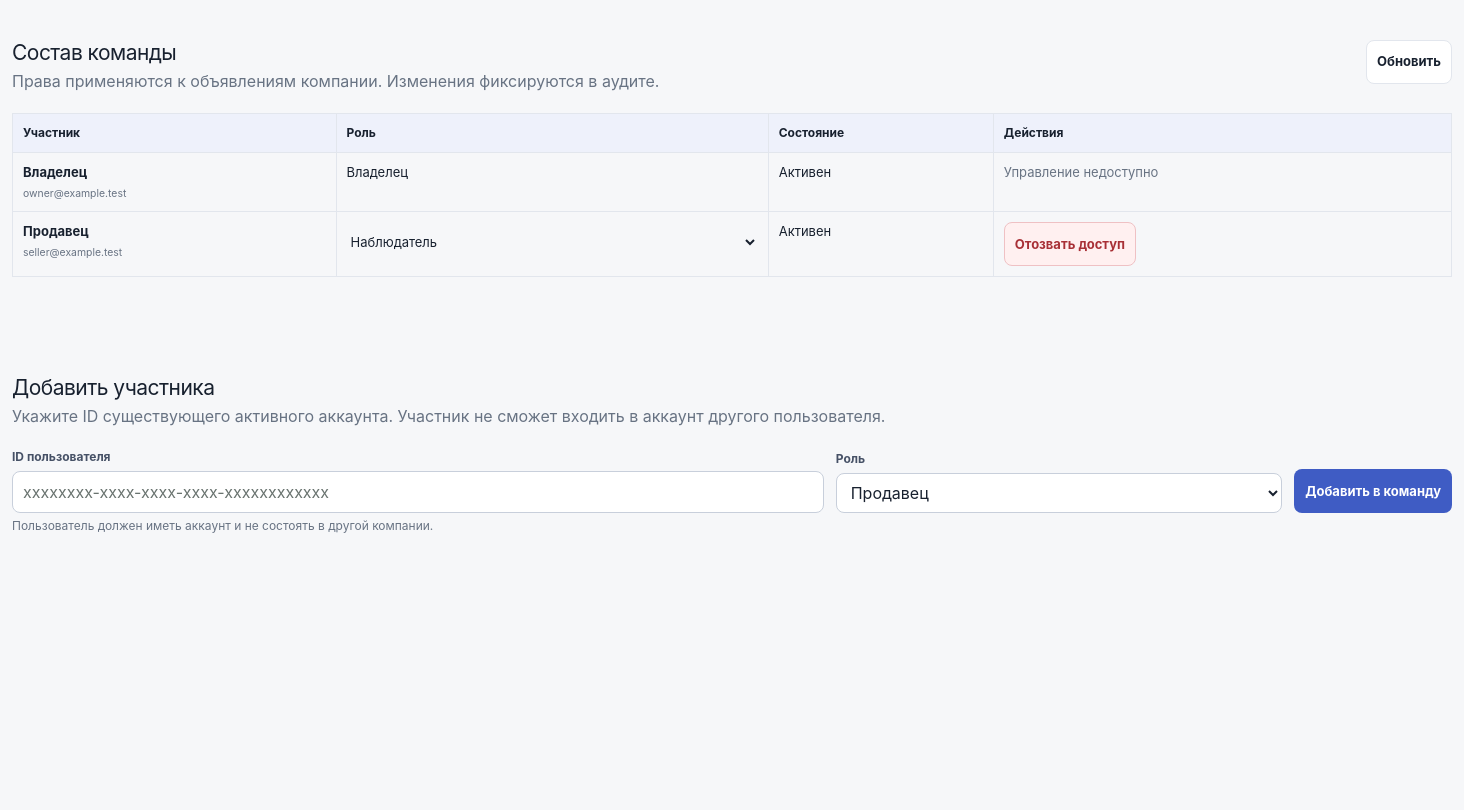
Test: dealer team controls › sends the member's current revision and surfaces a stale-revision conflict
Step 1. Select "Наблюдатель" in the 1st dropdown → (552, 242), box x1=346 y1=222 x2=758 y2=262
Step 2. Select "Наблюдатель" in the 1st dropdown → (552, 242), box x1=346 y1=222 x2=758 y2=262
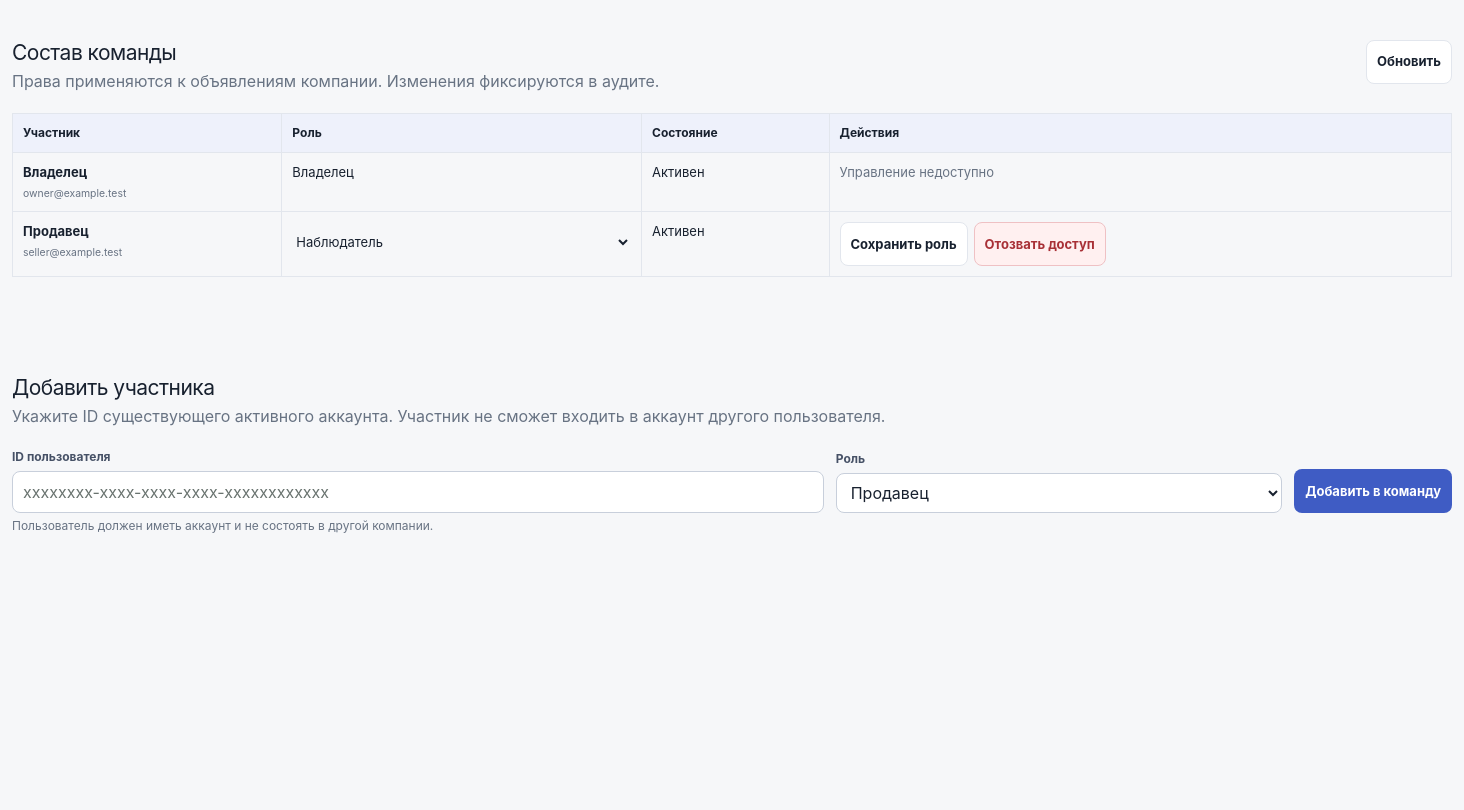
Step 3. Click the button "Сохранить роль" → (904, 244), box x1=840 y1=222 x2=968 y2=266
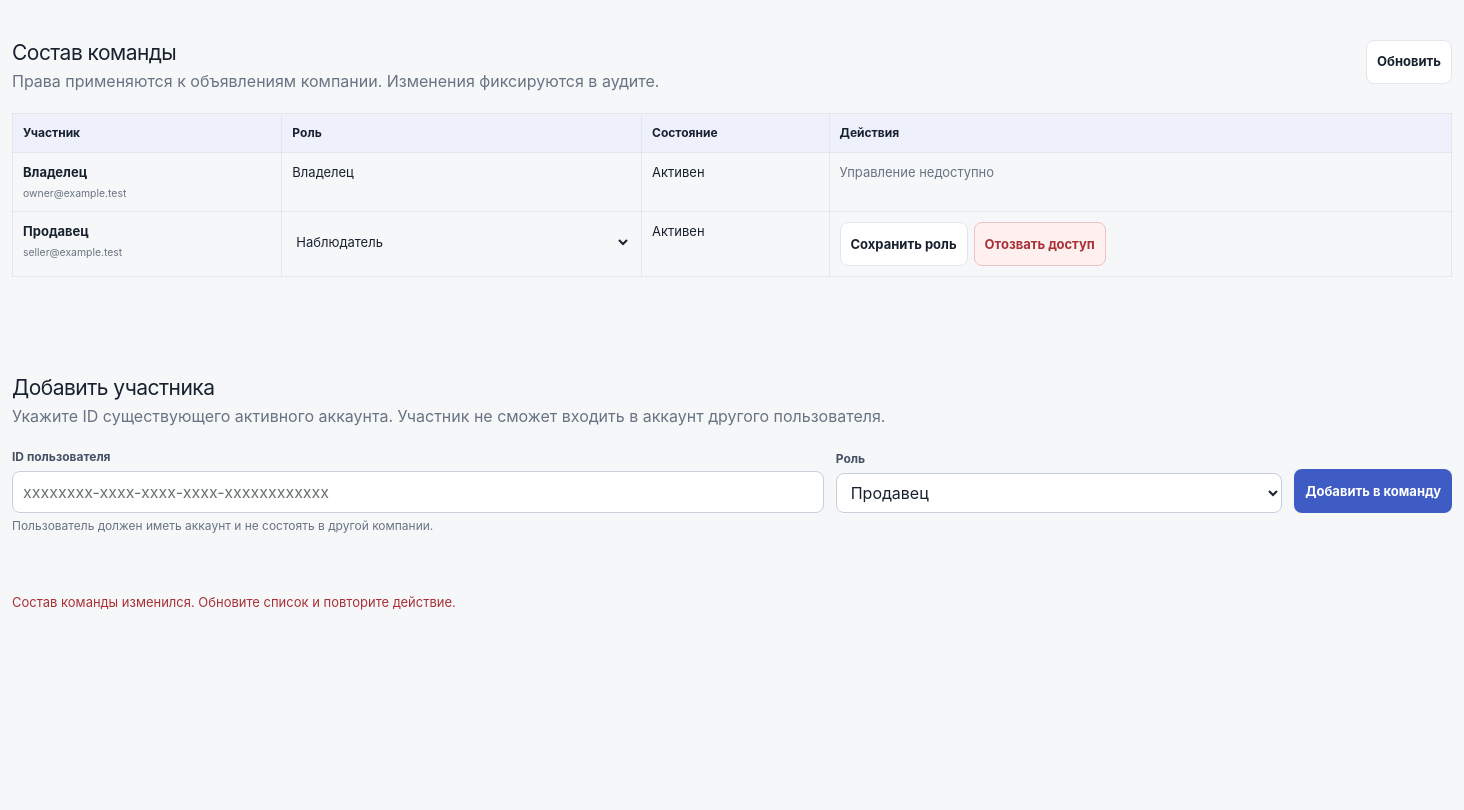
Result: the message "Состав команды изменился. Обновите список и повторите действие." is shown at x1=12 y1=594 x2=456 y2=610
